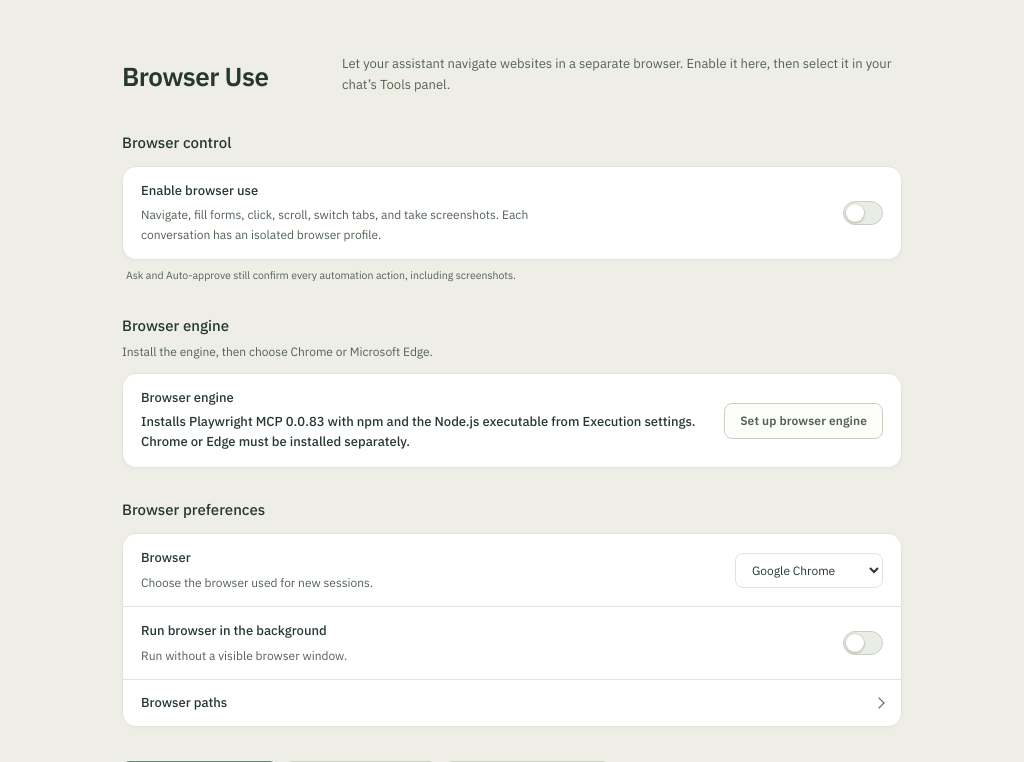
Test: automation settings › saves browser choices while preserving saved computer settings
The width and height of the screenshot is (1024, 762).
Expected: the heading "Browser Use" is shown, [122,61,268,92]
Click the checkbox labelled "Enable browser use" at (863, 213), box [843,201,883,225]
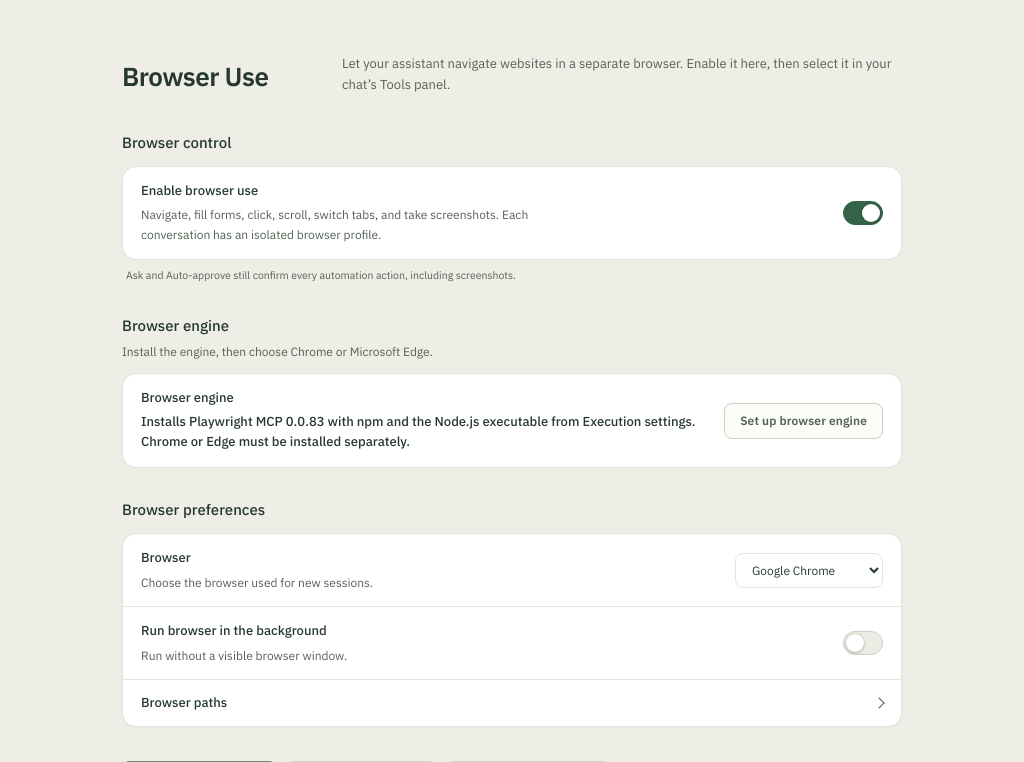
Select "Microsoft Edge" in the dropdown labelled "Browser" at (809, 570), box [735,553,883,588]
(page scrolled)
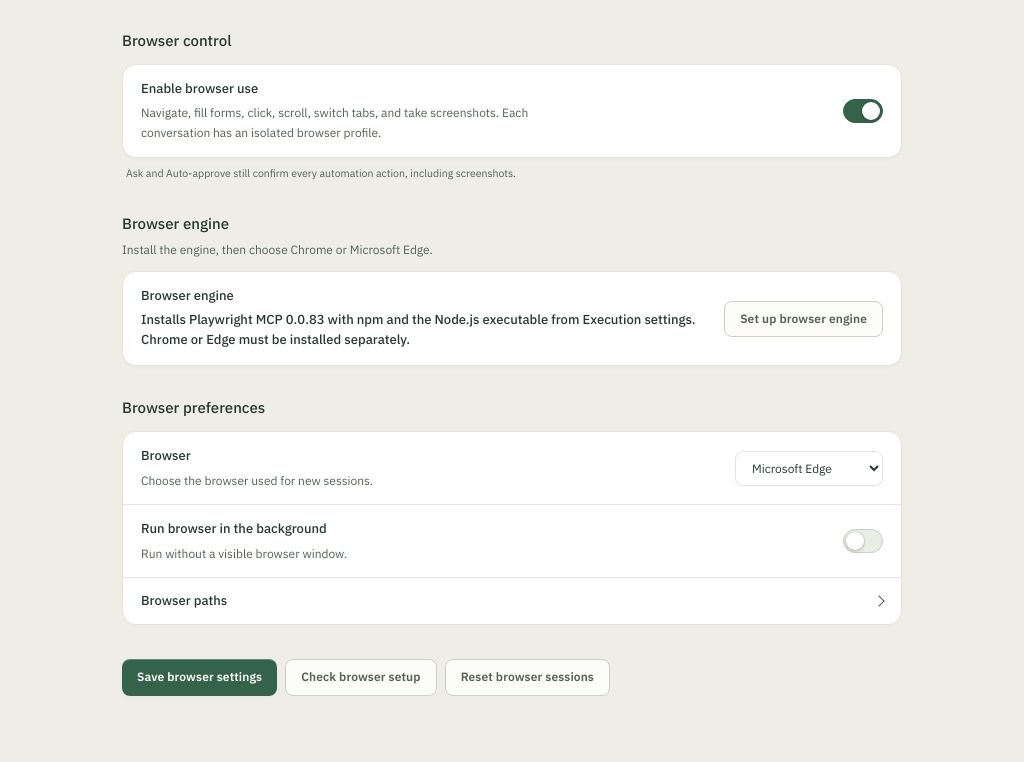
Click the button "Save browser settings" at (200, 678), box [122,660,277,696]
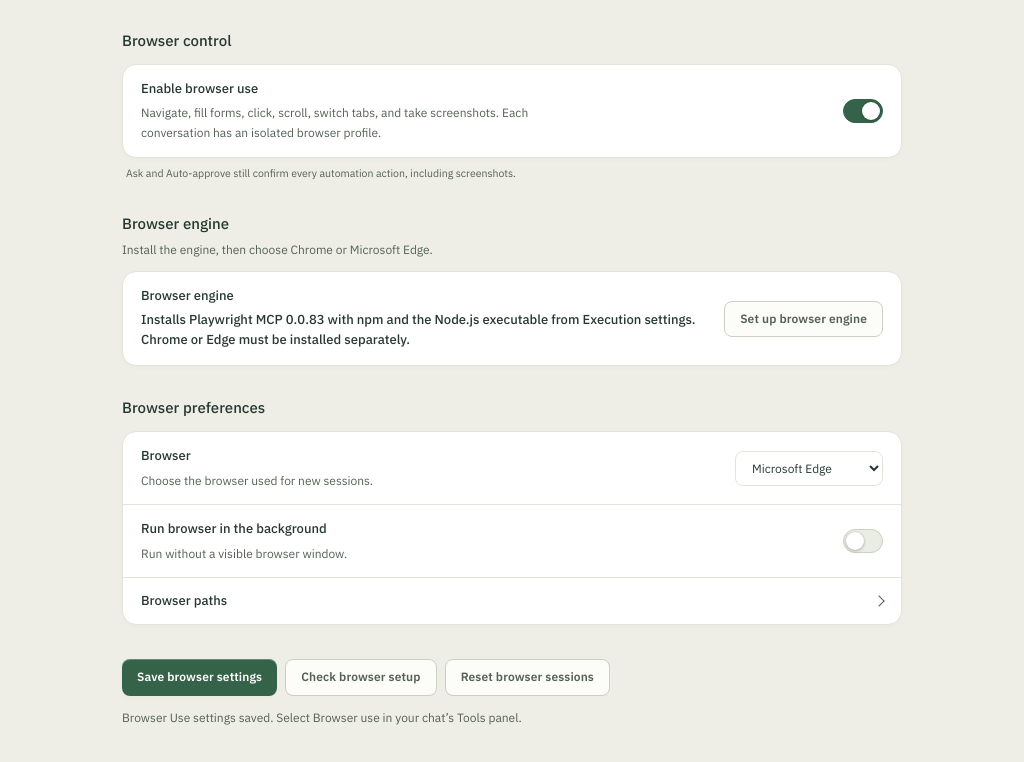
Result: the text "Browser Use settings saved. Select Browser use in your chat’s Tools panel." is shown at [122,710,522,725]
